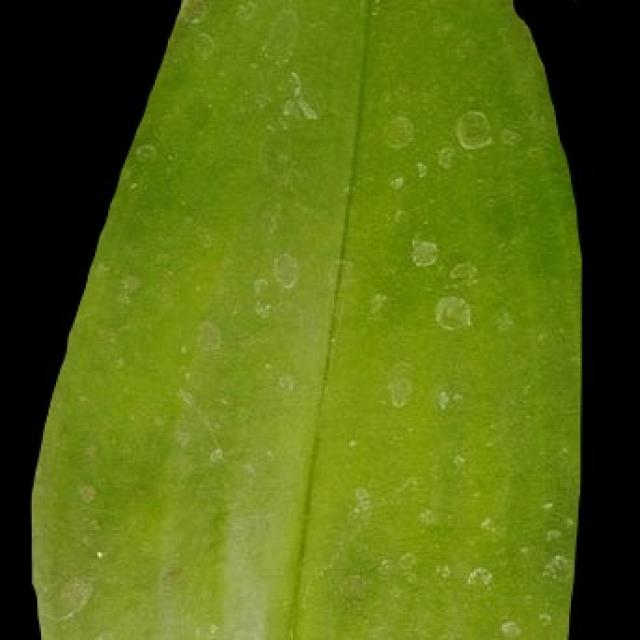mite: (368, 99, 524, 338), (45, 573, 95, 623), (452, 106, 494, 151), (431, 293, 474, 332), (379, 112, 416, 151), (407, 233, 440, 269), (496, 616, 522, 638), (556, 0, 601, 6)
spots: (28, 0, 584, 638)
